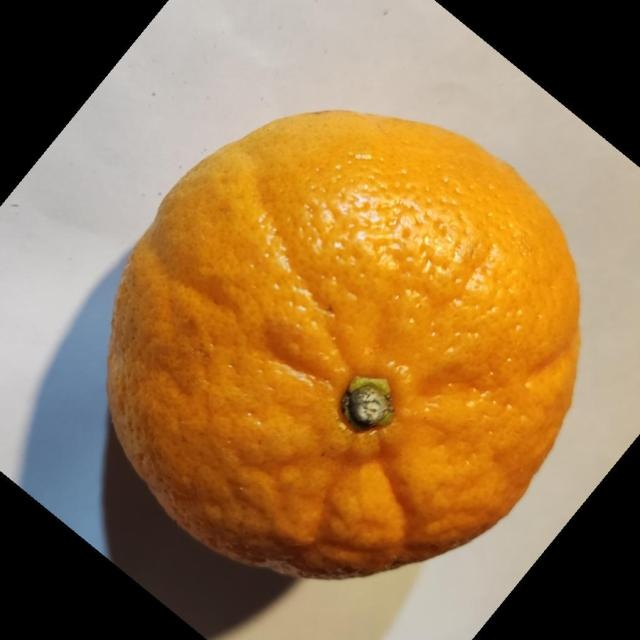agrume: (104, 108, 581, 581)
